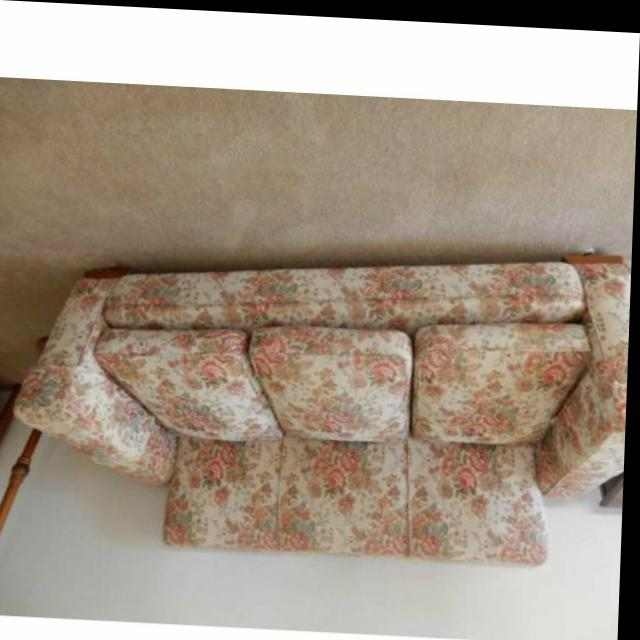Sofa: (12, 222, 634, 566)
